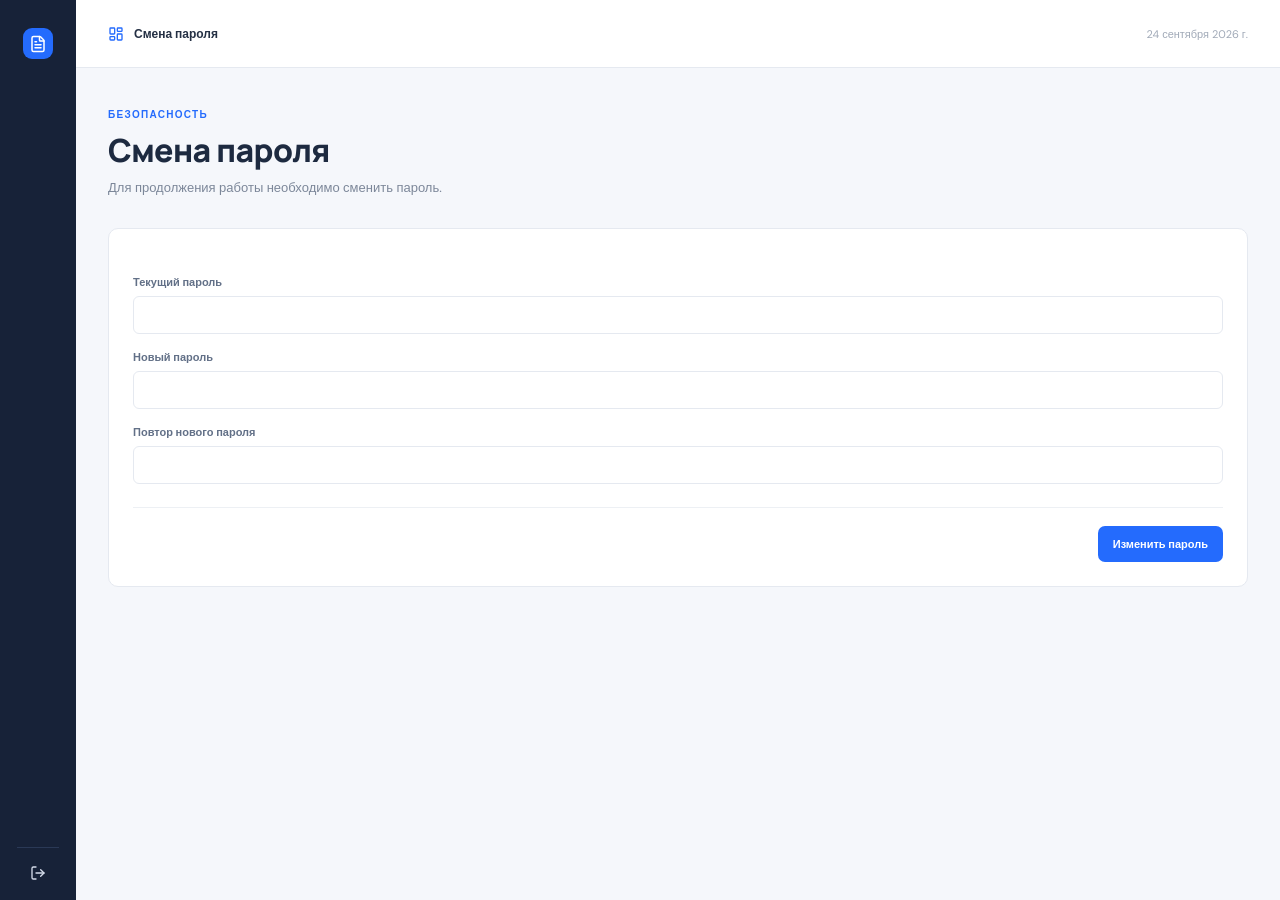
Test: server session and routes under /app › validates passwords short / short before sending
In the password field labelled "Текущий пароль": (678, 315) [133,296,1223,334], type "old-password"
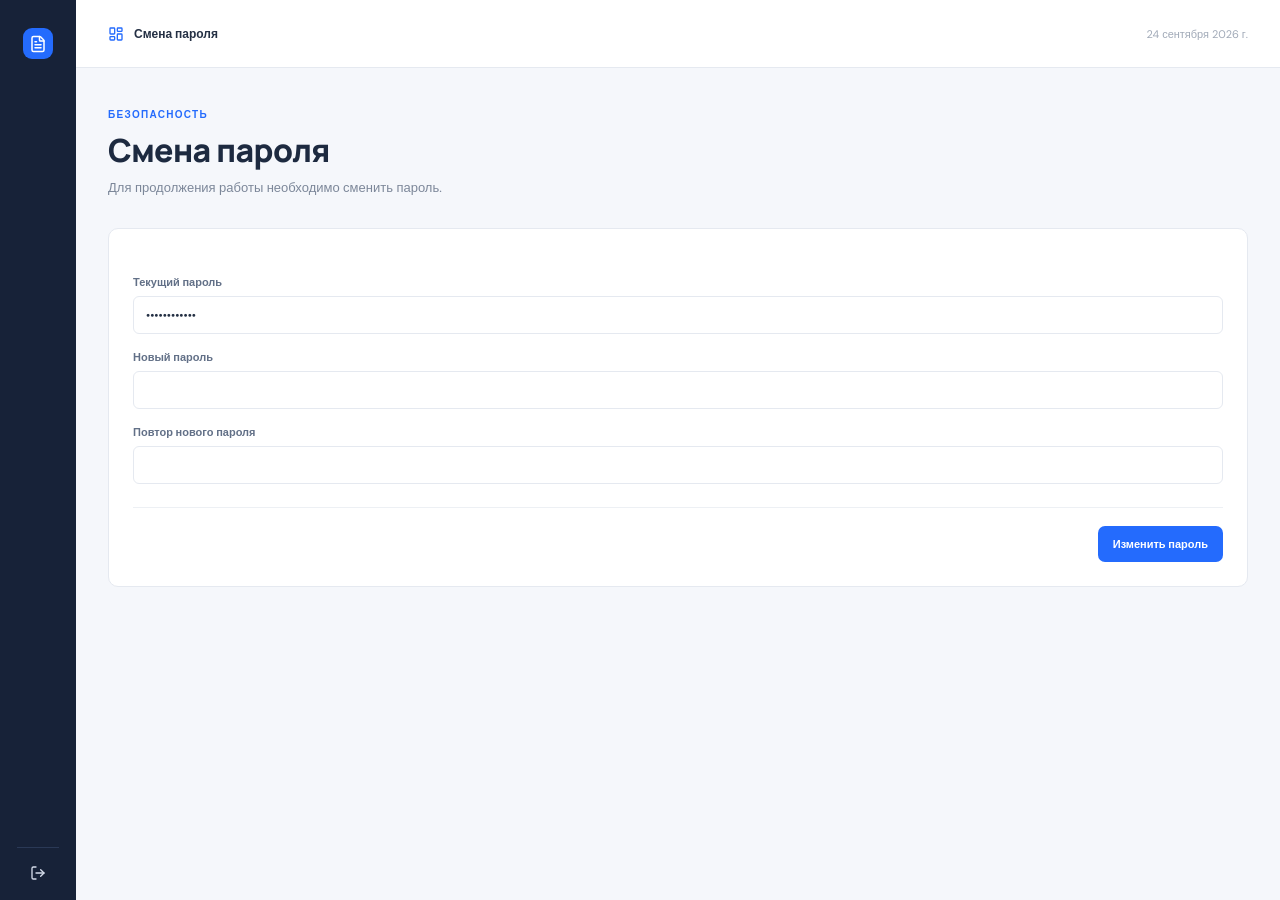
In the password field labelled "Новый пароль": (678, 390) [133,371,1223,409], type "short"
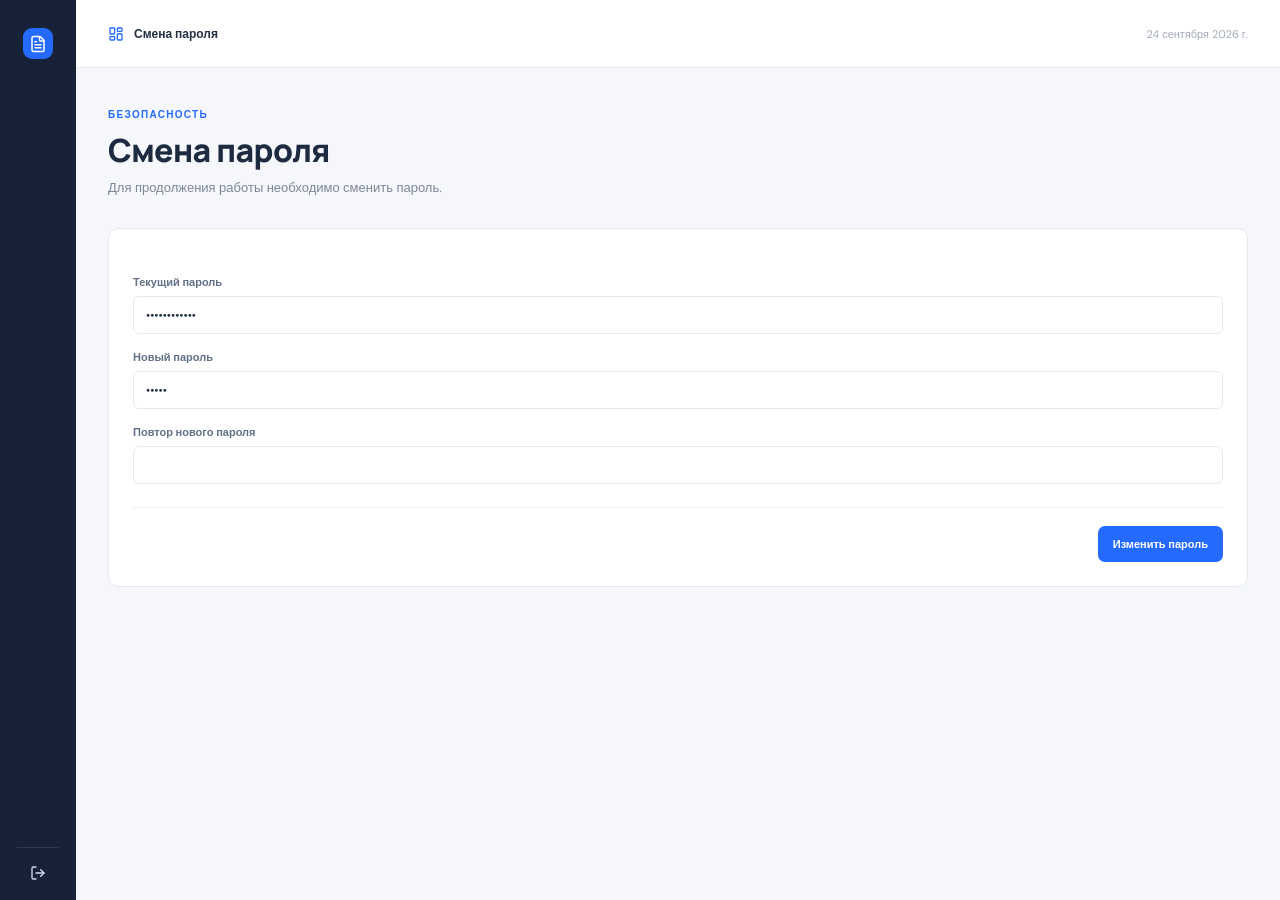
In the password field labelled "Повтор нового пароля": (678, 465) [133,446,1223,484], type "short"
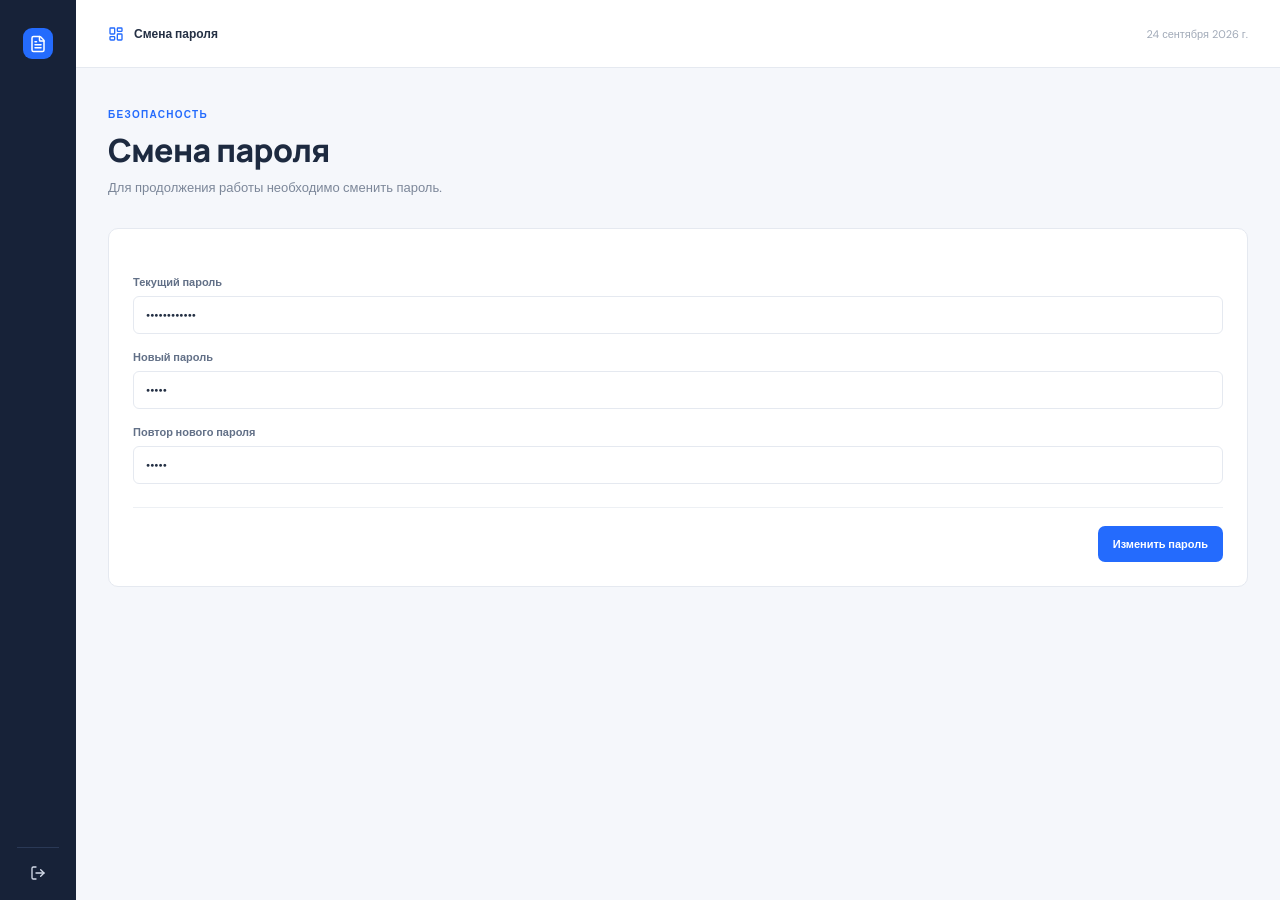
Click the button "Изменить пароль": (1160, 544) [1098,526,1223,562]
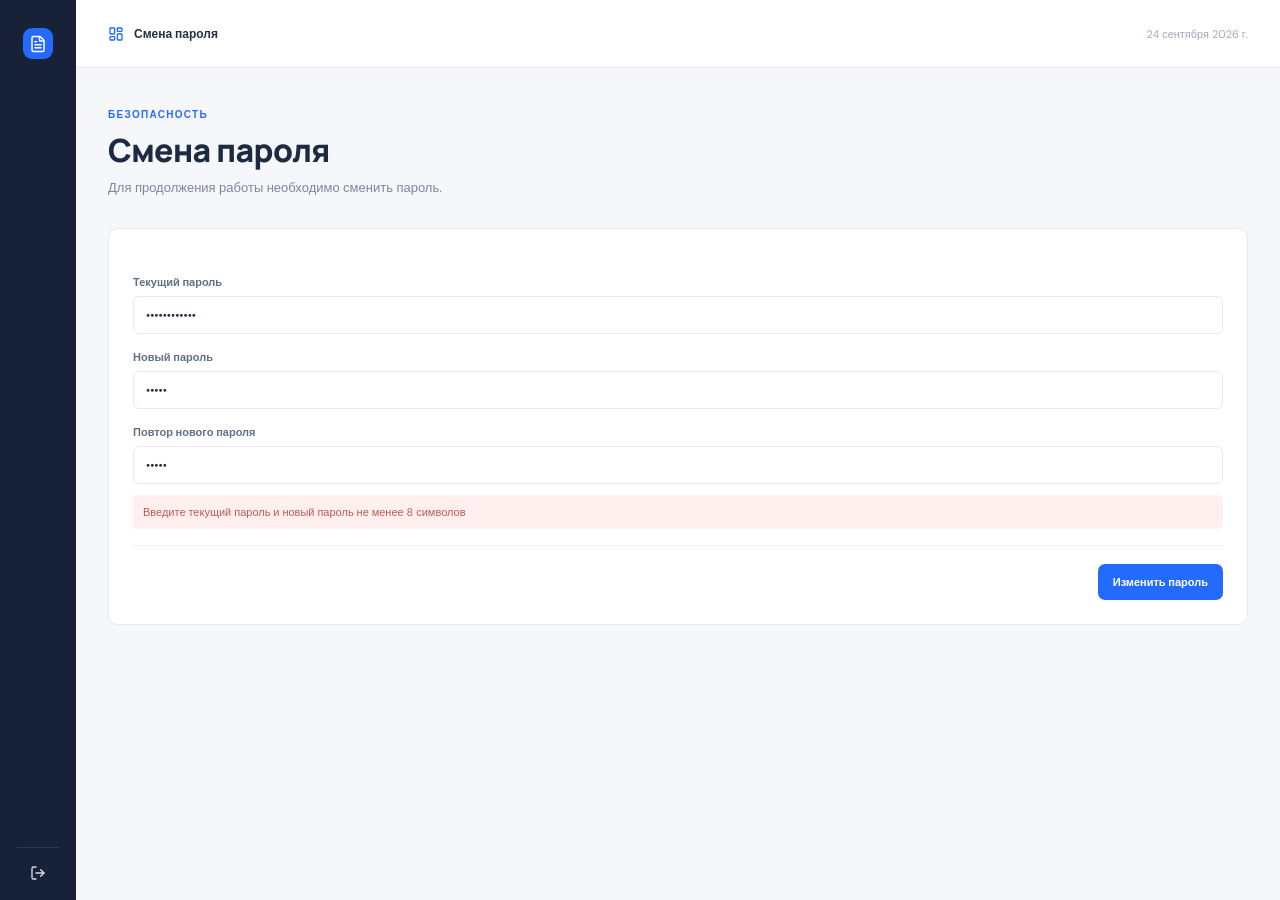
Check: the message shows "не менее 8", box [143,505,466,519]
